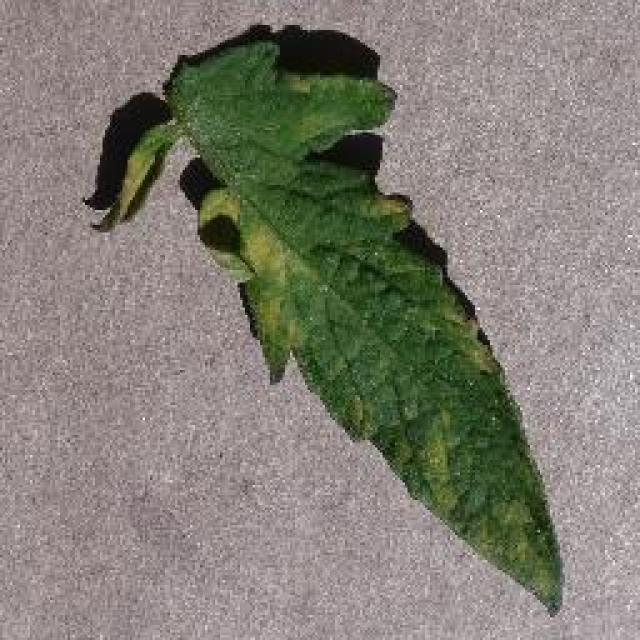Tomato___Leaf_Mold: (95, 38, 560, 608)
